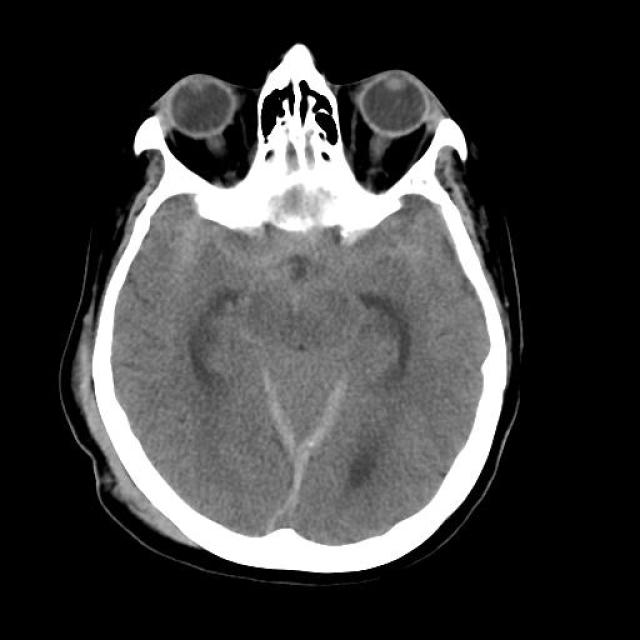Subdural: (240, 369, 369, 556)
